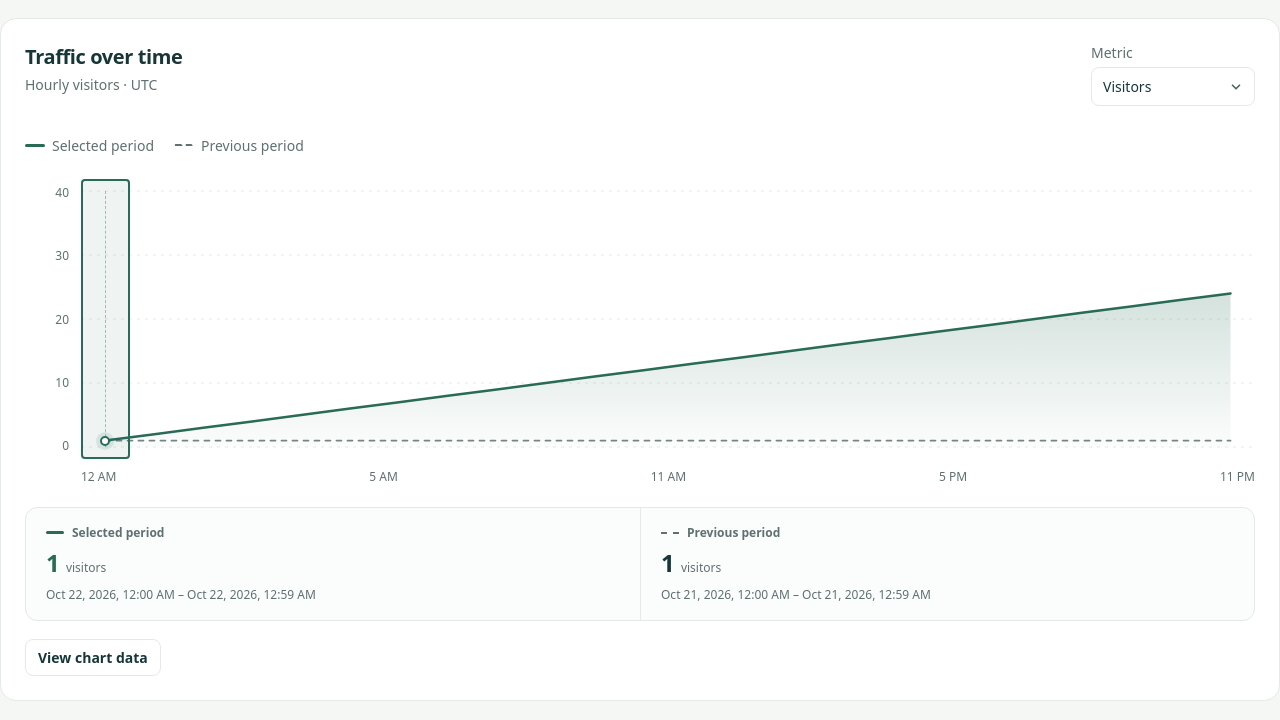
it: Dashboard setup guide empty state › switches chart metrics, exposes keyboard values, and links to the separate data page
Press Arrowright
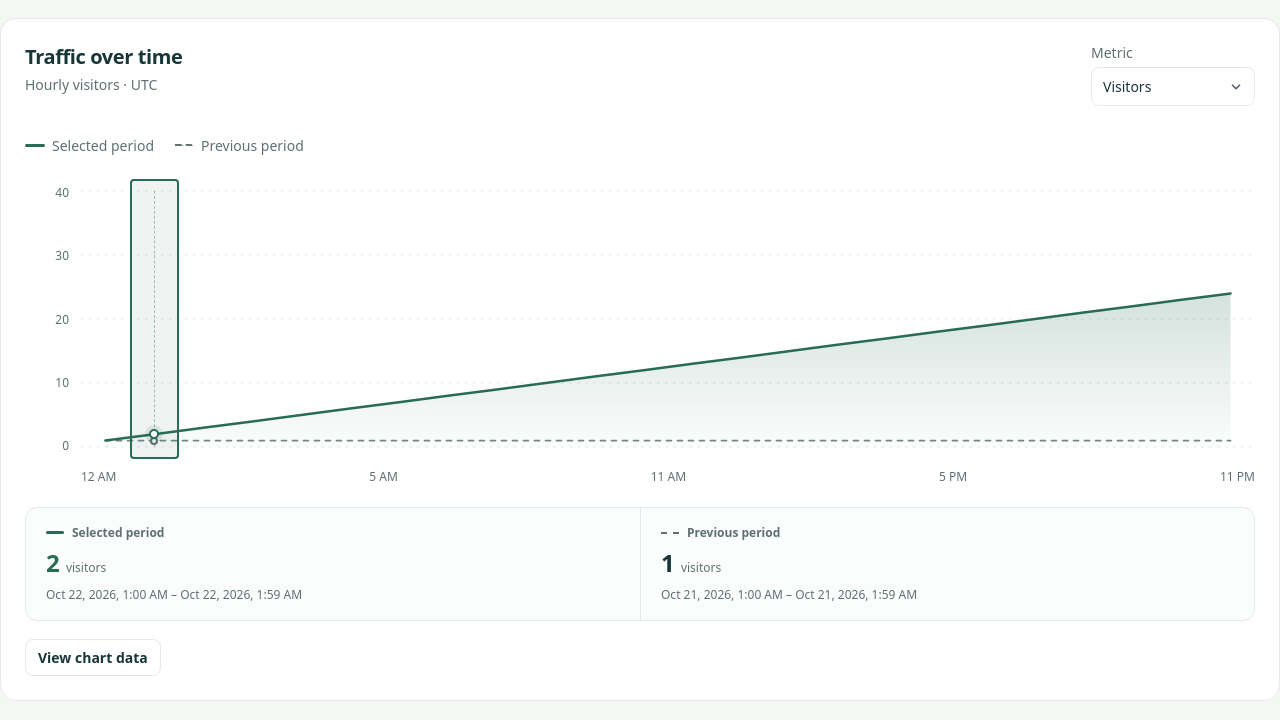
Press End
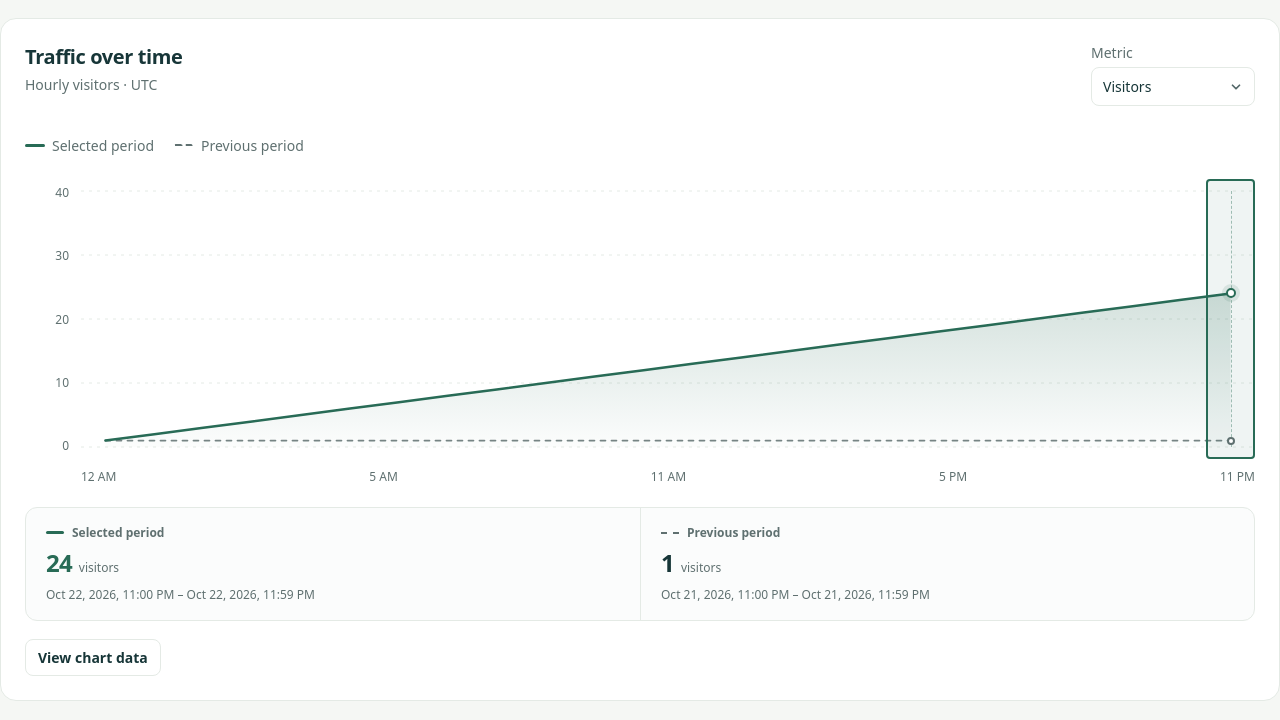
Press Home
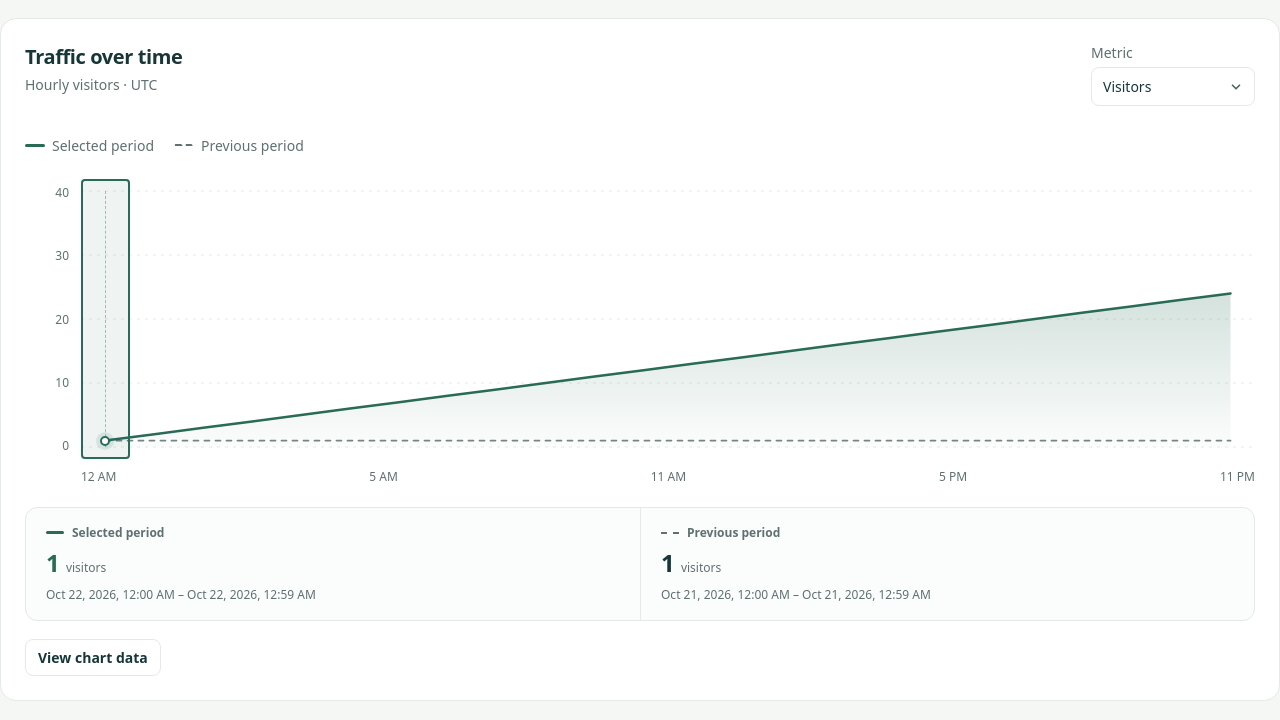
Press Tab
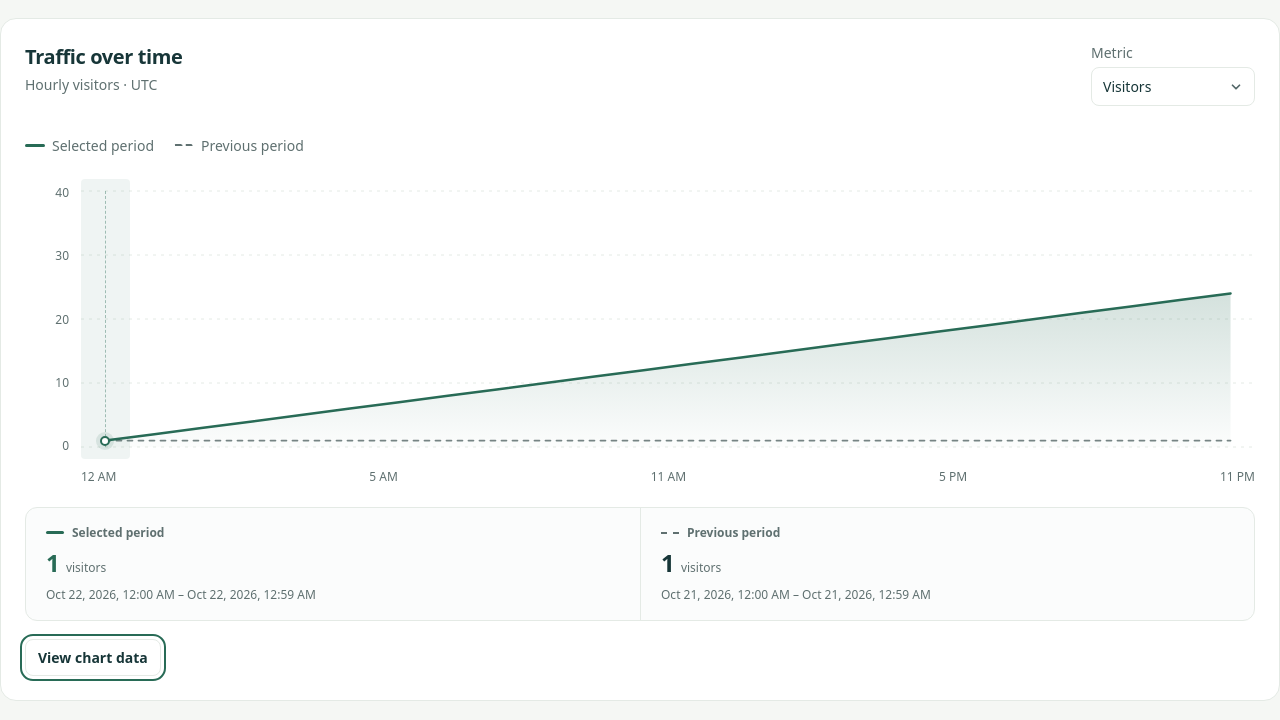
Click the dropdown named "Metric": click(1173, 86) [1091,67,1255,106]
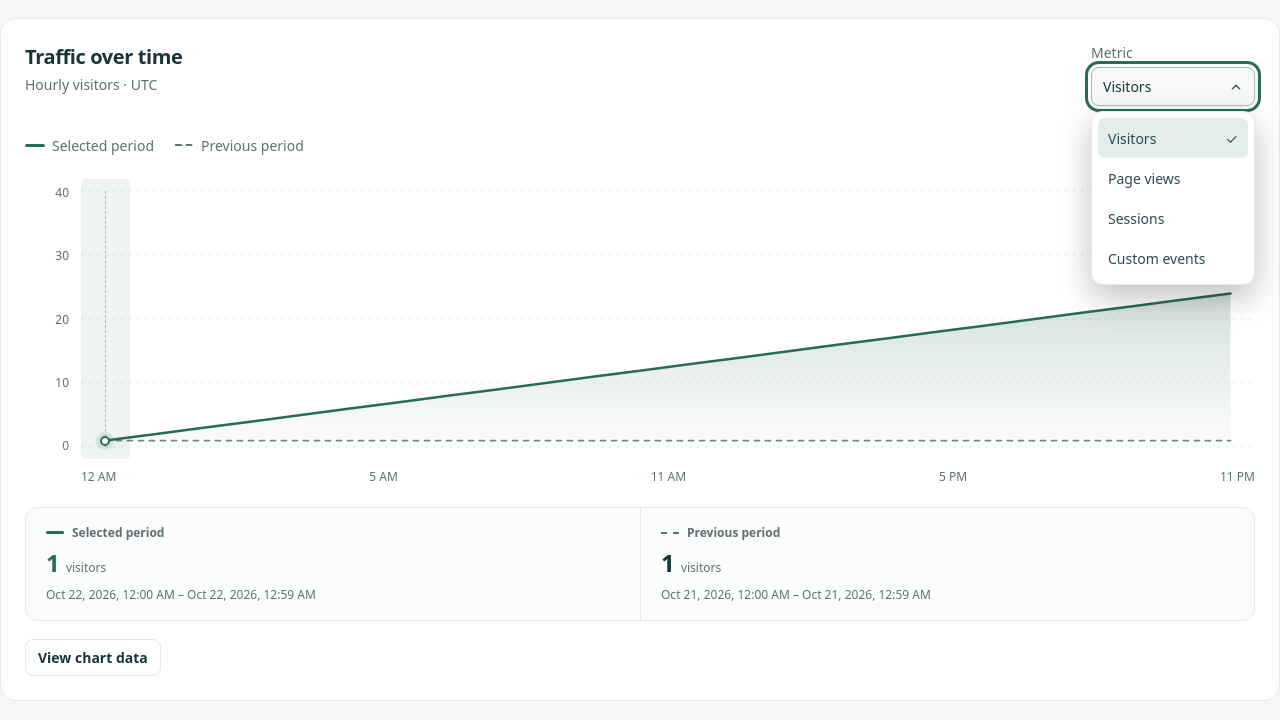
Click the option "Page views": click(1173, 178) [1098,158,1248,198]
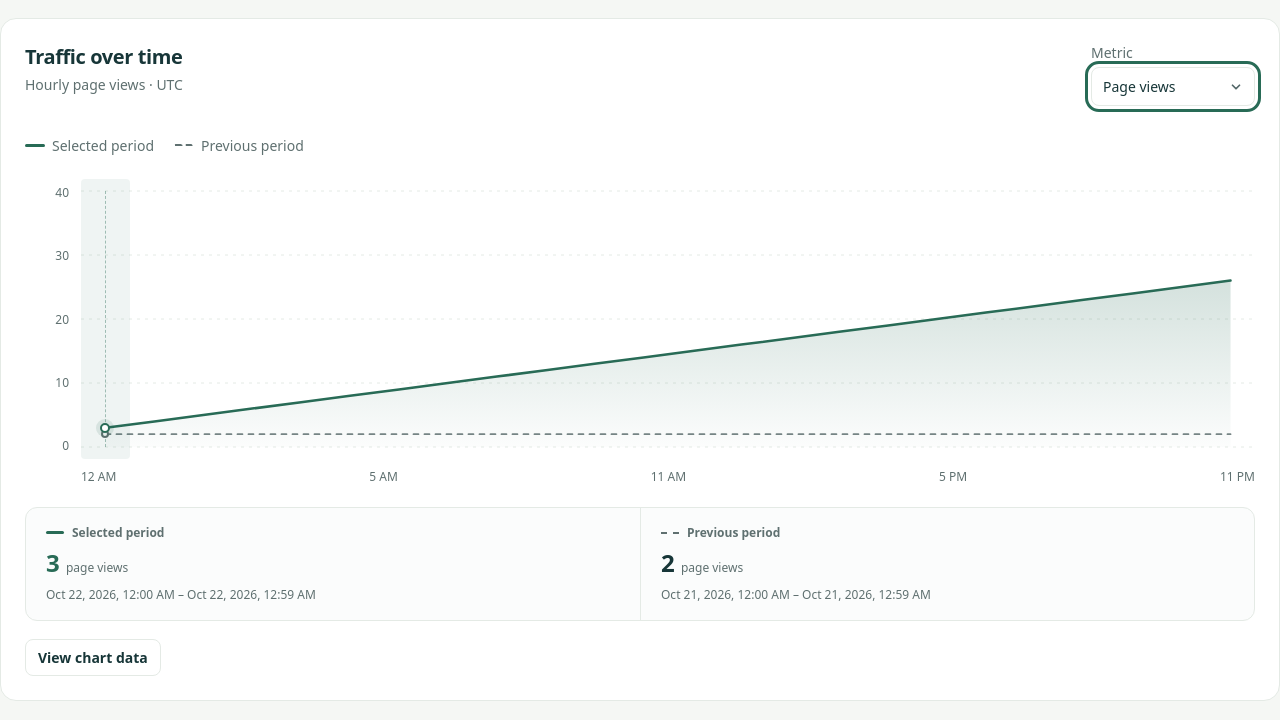
Expected: the element named "Page views by hour" is shown, [81,179,1255,459]
